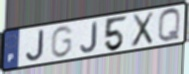5: (102, 14, 129, 52)
G: (50, 25, 75, 59)
J: (24, 28, 46, 63), (79, 21, 98, 54)
Q: (157, 7, 182, 44)
X: (130, 10, 155, 49)
